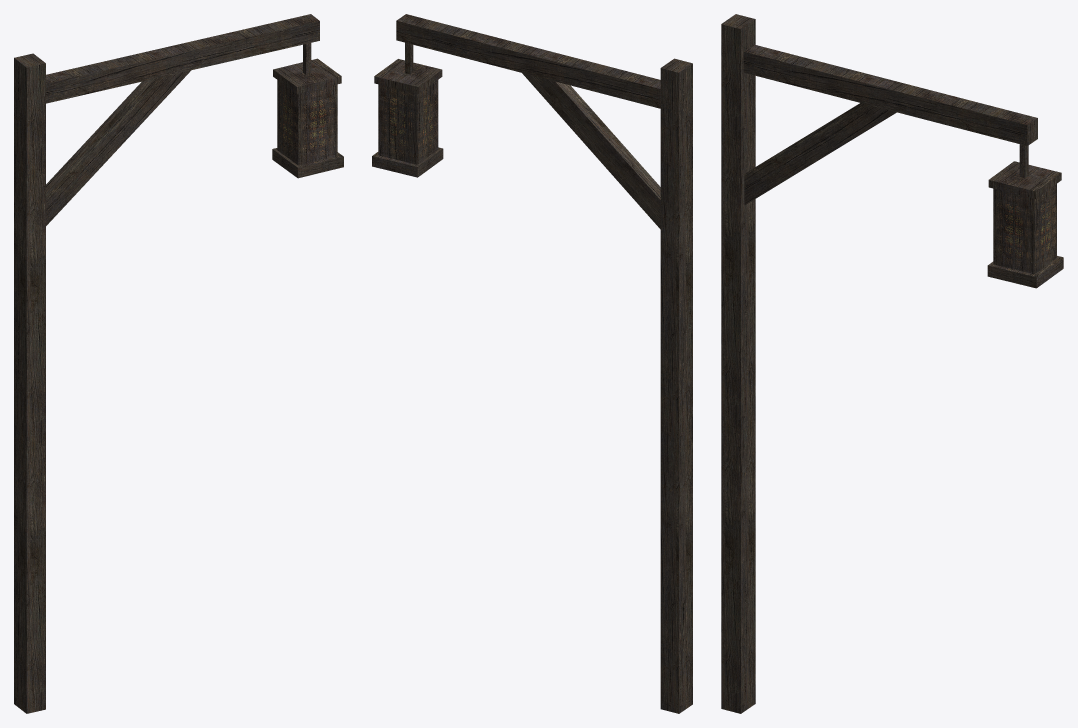
The model's file is Lamp.fbx.
3 renders of one model, left to right at view 1: azimuth 30°, elevation 25°; view 2: azimuth 150°, elevation 25°; view 3: azimuth 330°, elevation 25°, orthographic. The views are drawn at different scales.
Visible parts, largest first — view 1: Model; view 2: Model; view 3: Model.
Part boxes in pixels (box(x1,y1,x2,y2)): Model: box(14, 14, 343, 713); Model: box(372, 14, 692, 713); Model: box(721, 14, 1063, 713).
Bounding box in the file's own units: 14.19 × 28.5 × 2.05.
